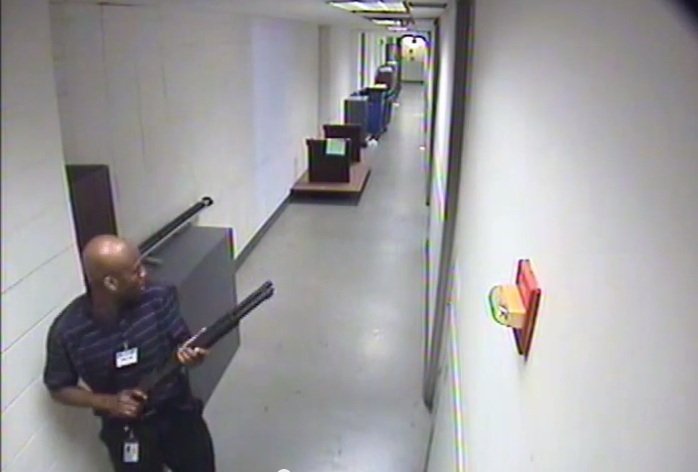Gun: (138, 284, 265, 415)
